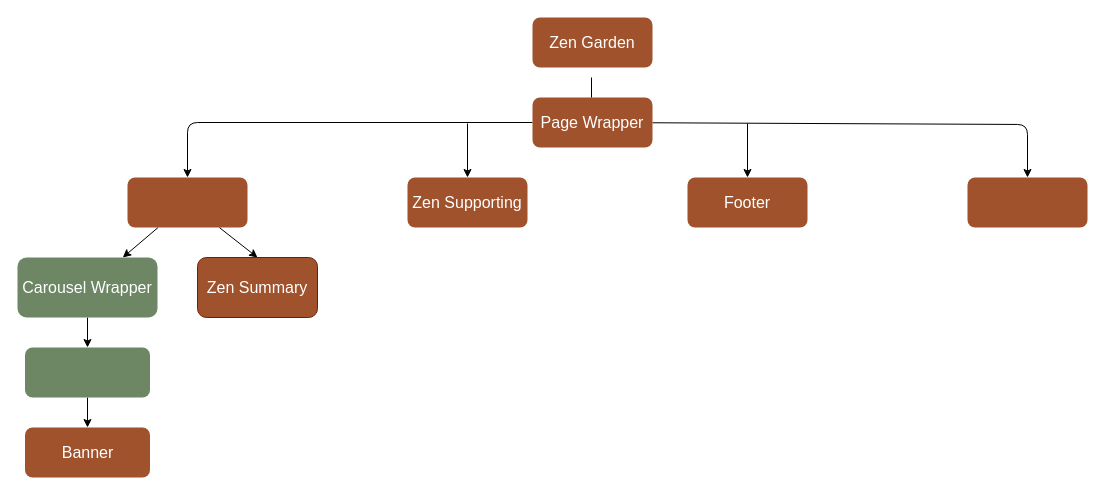
The diagram is 1104 pixels wide and 494 high, and some of its shapes have lost their labels. The box of each missing label's shape, as (x1, y1, x2, y2) in pixels:
Carousel: (24, 347, 150, 397)
Sidebar: (967, 177, 1087, 227)
Zen Intro: (127, 177, 247, 227)
